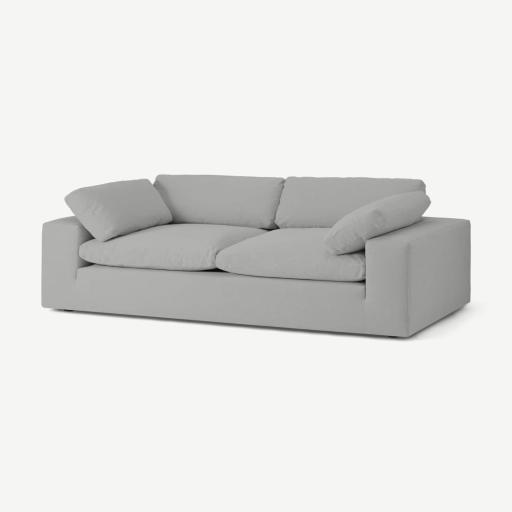back_cushion: (65, 175, 425, 241)
base: (54, 266, 364, 333)
left_arm: (365, 218, 470, 336)
right_arm: (42, 217, 92, 309)
seat_cushion: (81, 224, 365, 282)
two-seater: (0, 0, 511, 512)
